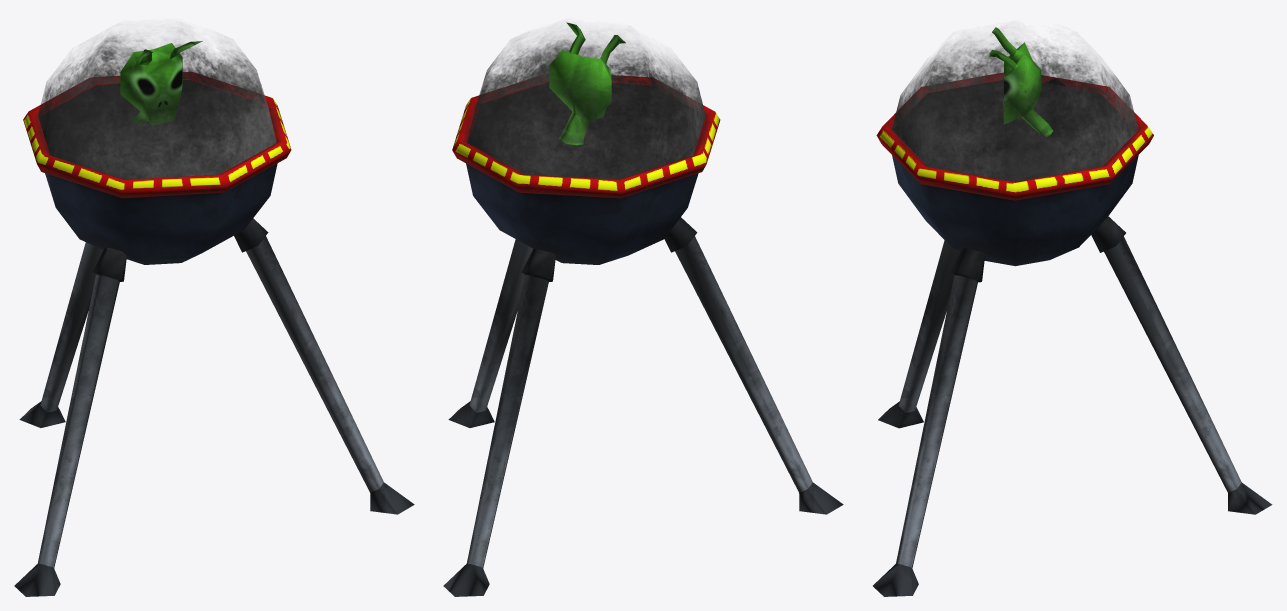
File: space_env_alien.gltf
3 views of the same model, side by side, from view 1: azimuth 30°, elevation 25°; view 2: azimuth 150°, elevation 25°; view 3: azimuth 270°, elevation 25° (orthographic).
Visible parts, largest first — view 1: space_env_alien_glb; view 2: space_env_alien_glb; view 3: space_env_alien_glb.
Part boxes in pixels (bbox=[...]): space_env_alien_glb: bbox=[14, 28, 414, 596]; space_env_alien_glb: bbox=[443, 22, 843, 596]; space_env_alien_glb: bbox=[873, 27, 1272, 596].
Size of what is drawn, in the model's own units: 1.16 by 1.37 by 1.04.
Materials: 2 (2 with a texture image).
